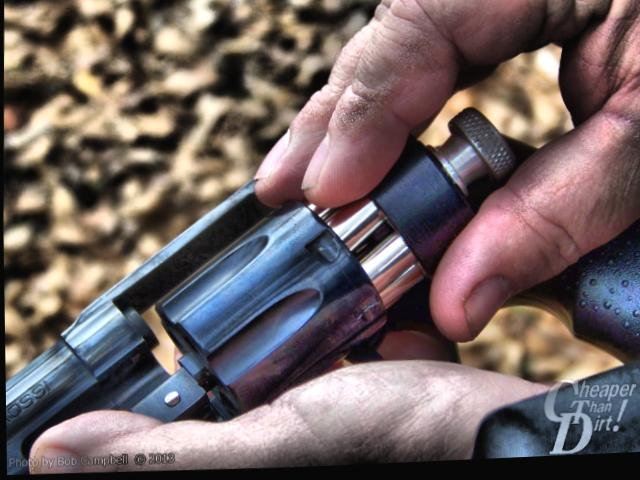pistol: (1, 96, 640, 480)
